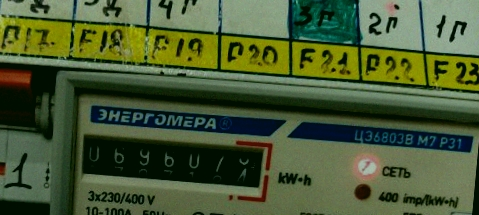0: (185, 147, 202, 171), (85, 141, 101, 163)
4: (234, 165, 248, 187)
6: (110, 143, 126, 165), (160, 147, 176, 168)
7: (210, 152, 227, 174)
9: (135, 145, 150, 167)
screen: (66, 123, 277, 200)
